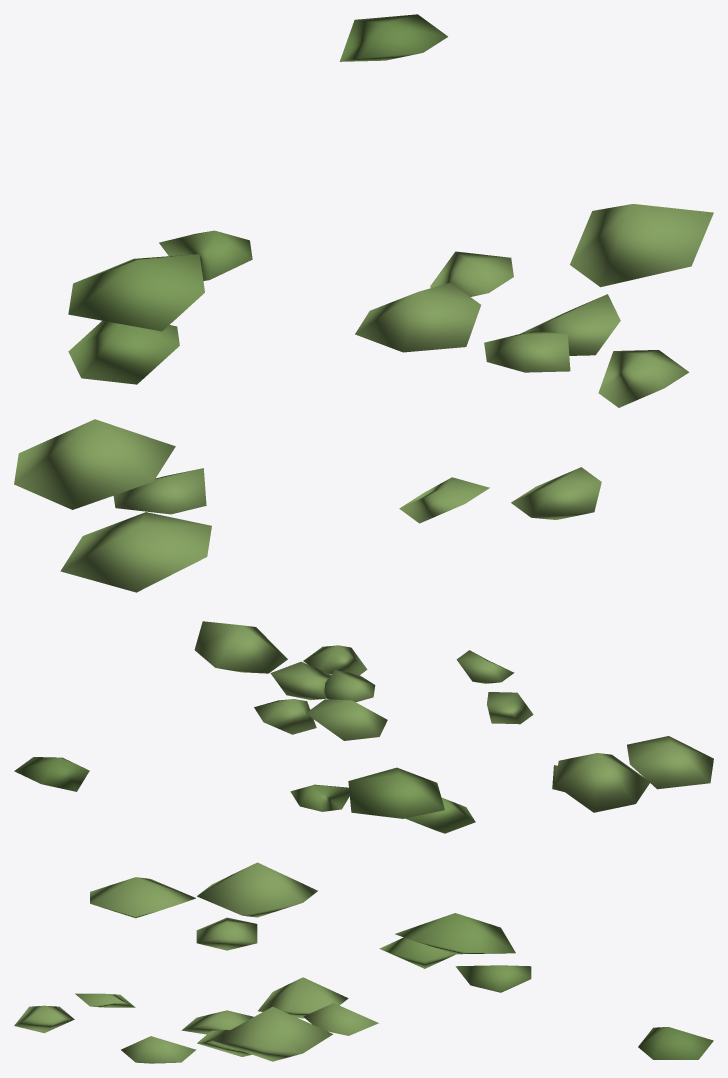
Rendered from canopy-2-0-3.glb.
3 views of the same model, one above another, from view 1: azimuth 30°, elevation 25°; view 2: azimuth 150°, elevation 25°; view 3: azimuth 270°, elevation 25° (orthographic). The views are drawn at different scales.
Size of the model in its own units: 102 by 22.5 by 115.
1 material, 1 textured.
